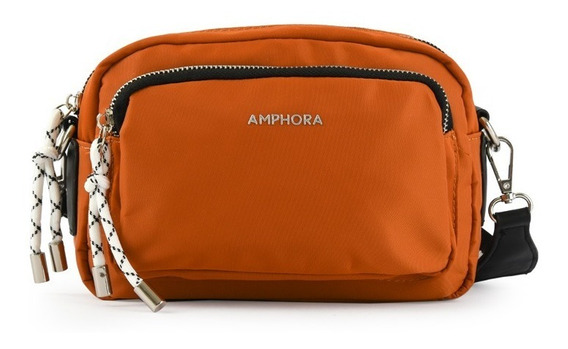cartera: (30, 24, 539, 309)
